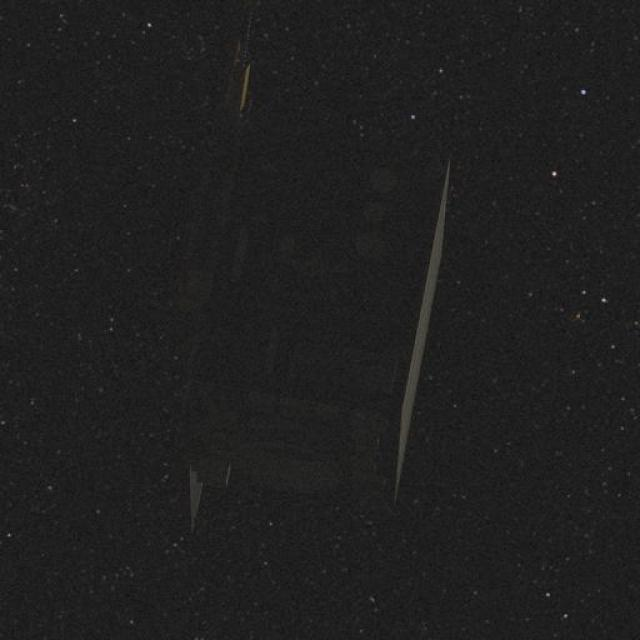proba_2: (159, 43, 431, 521)
